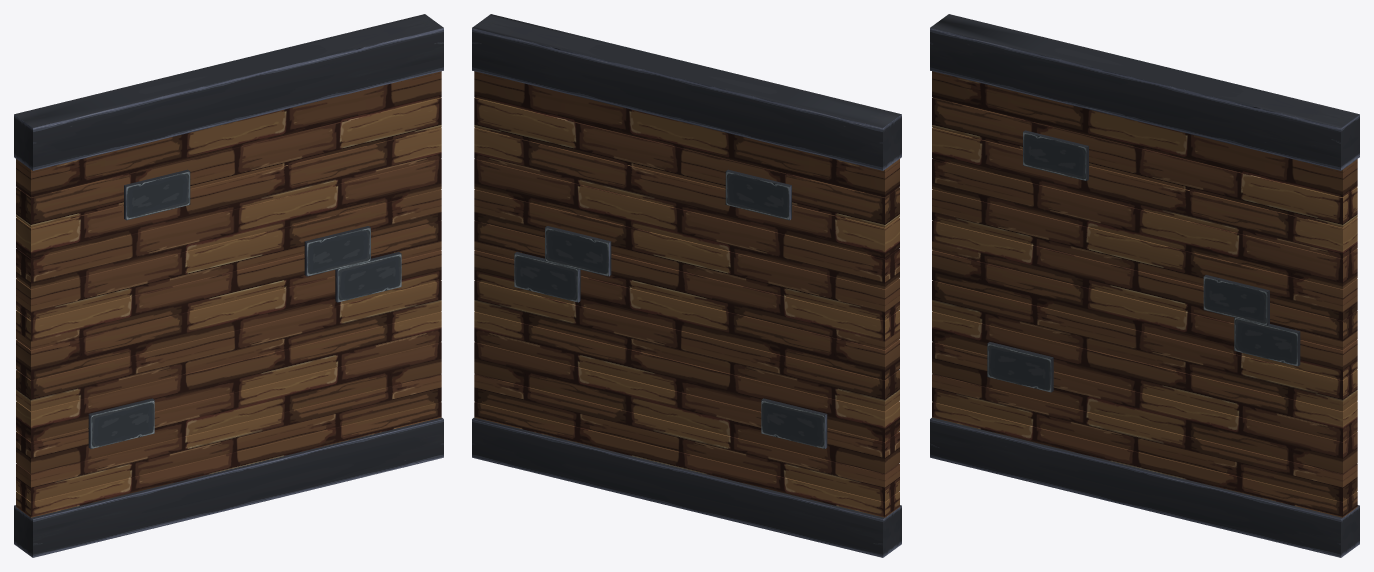
The model's file is sm_wall_test.fbx.
3 renders of one model, left to right at view 1: azimuth 30°, elevation 25°; view 2: azimuth 150°, elevation 25°; view 3: azimuth 330°, elevation 25°, orthographic.
Parts seen in each view (by area): view 1: Cube; view 2: Cube; view 3: Cube.
Part boxes in pixels (x1,y1,x2,y2): Cube: [14, 14, 443, 557]; Cube: [472, 14, 901, 557]; Cube: [930, 14, 1359, 557].
Size of the model in its own units: 400 by 400 by 32.75.
